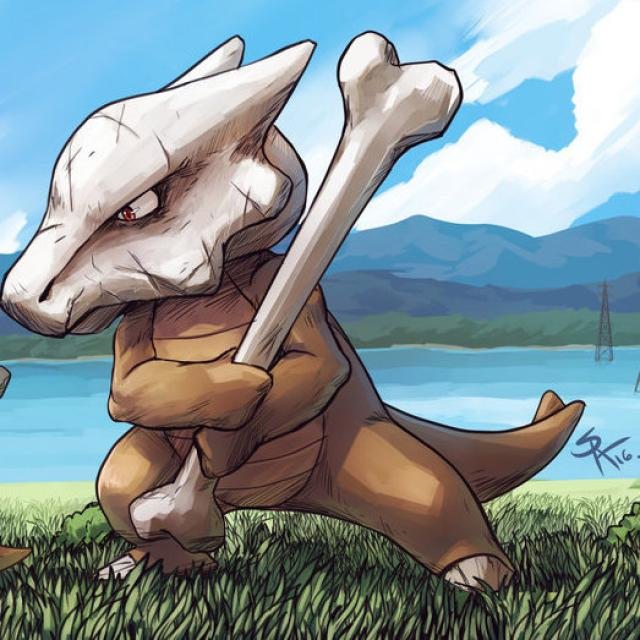Marowak: (27, 35, 473, 582)
